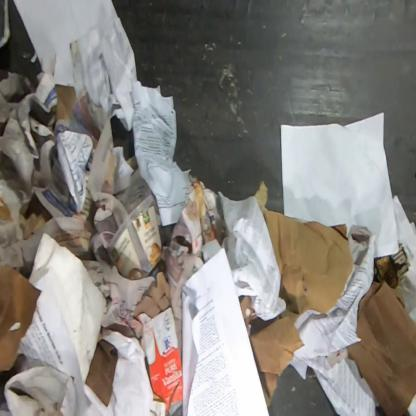cardboard: (249, 181, 352, 408), (345, 279, 415, 415), (136, 307, 183, 414), (50, 84, 77, 123)
rigid_plastic: (106, 194, 164, 280)
